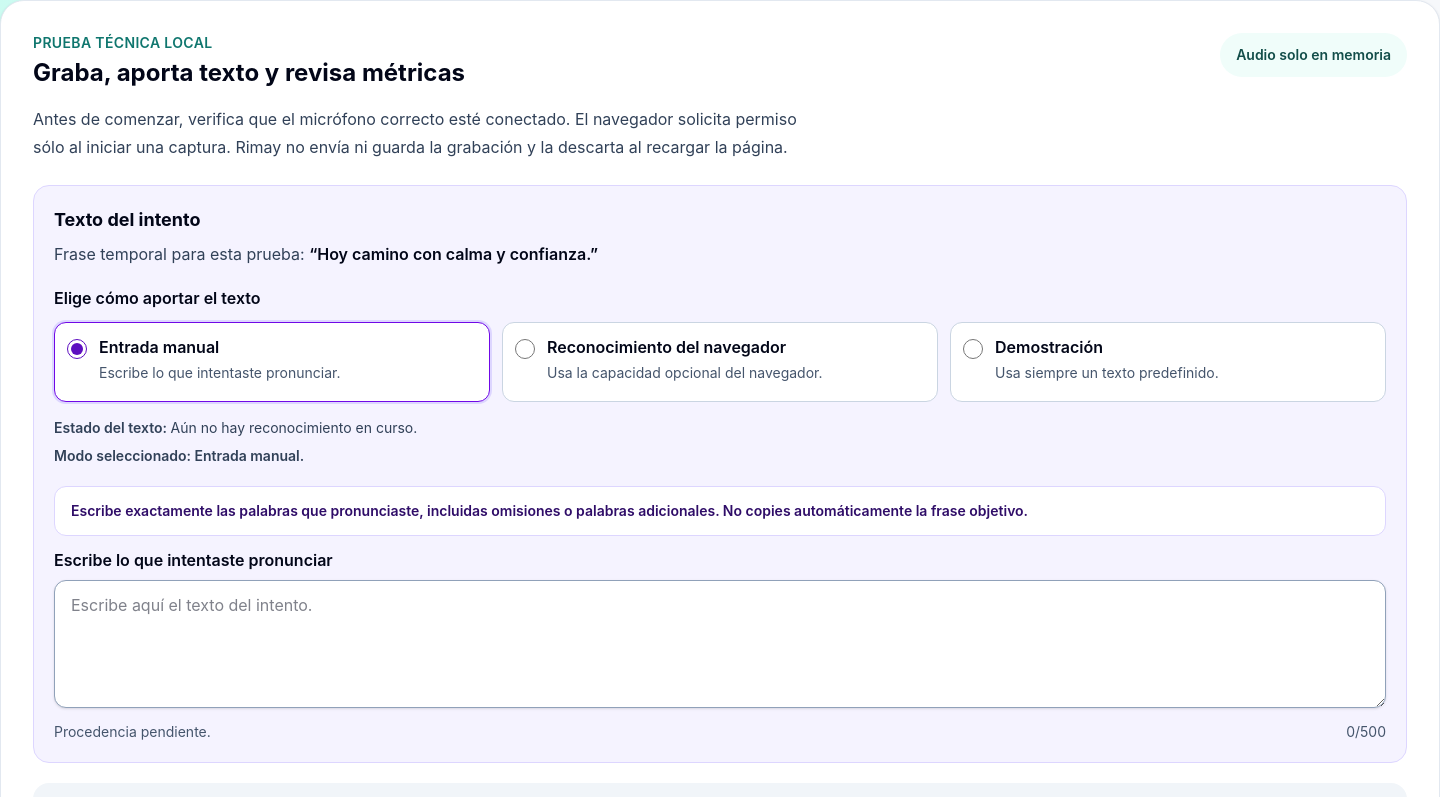
Test: AudioRecorderCard speech text flow › permite entrada manual sin captura y mantiene WPM no disponible
Type "Hoy camino con calma y confianza." into the text box labelled "Escribe lo que intentaste pronunciar" at (720, 644), box [54,580,1386,708]
(page scrolled)
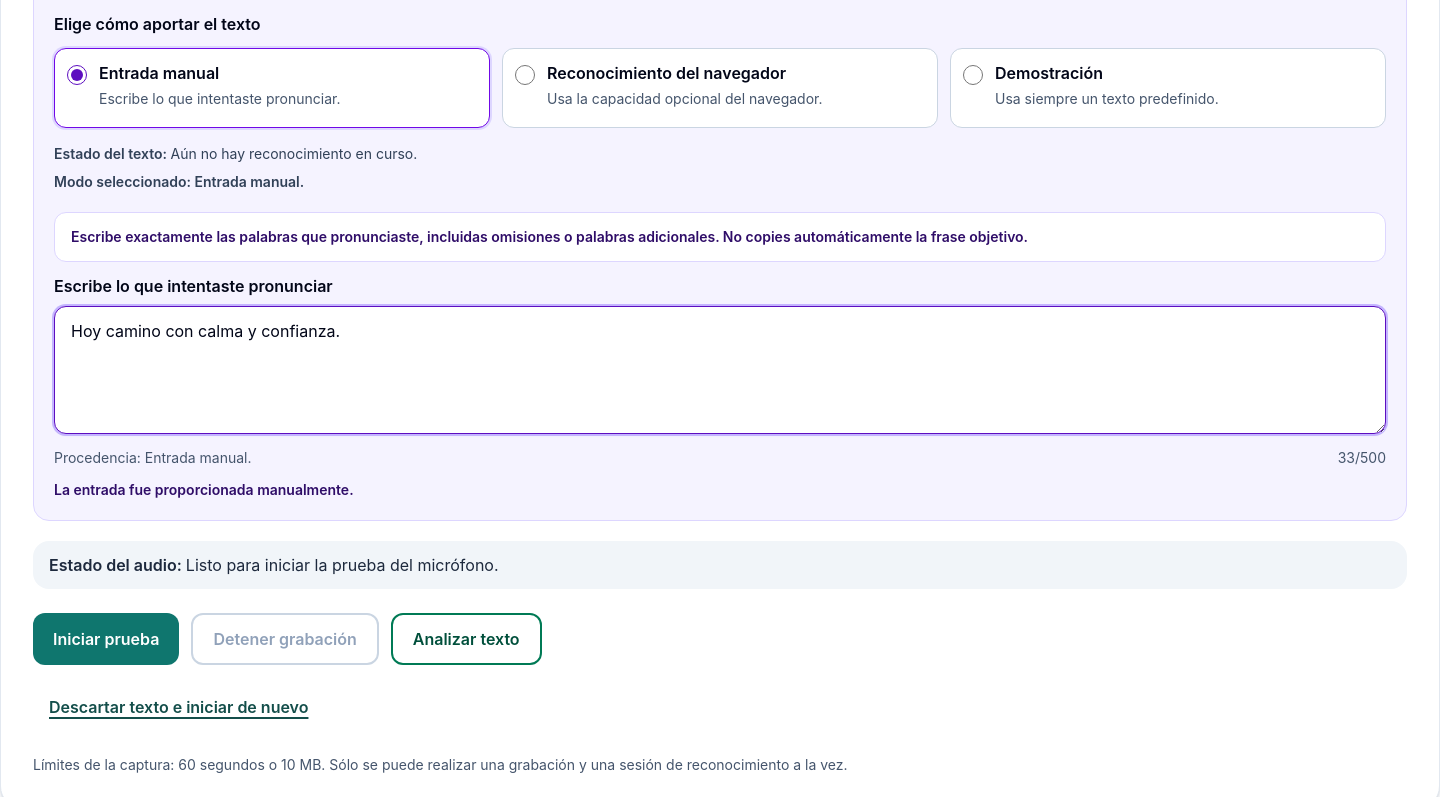
Click the button "Analizar texto" at (466, 639), box [391,613,542,665]
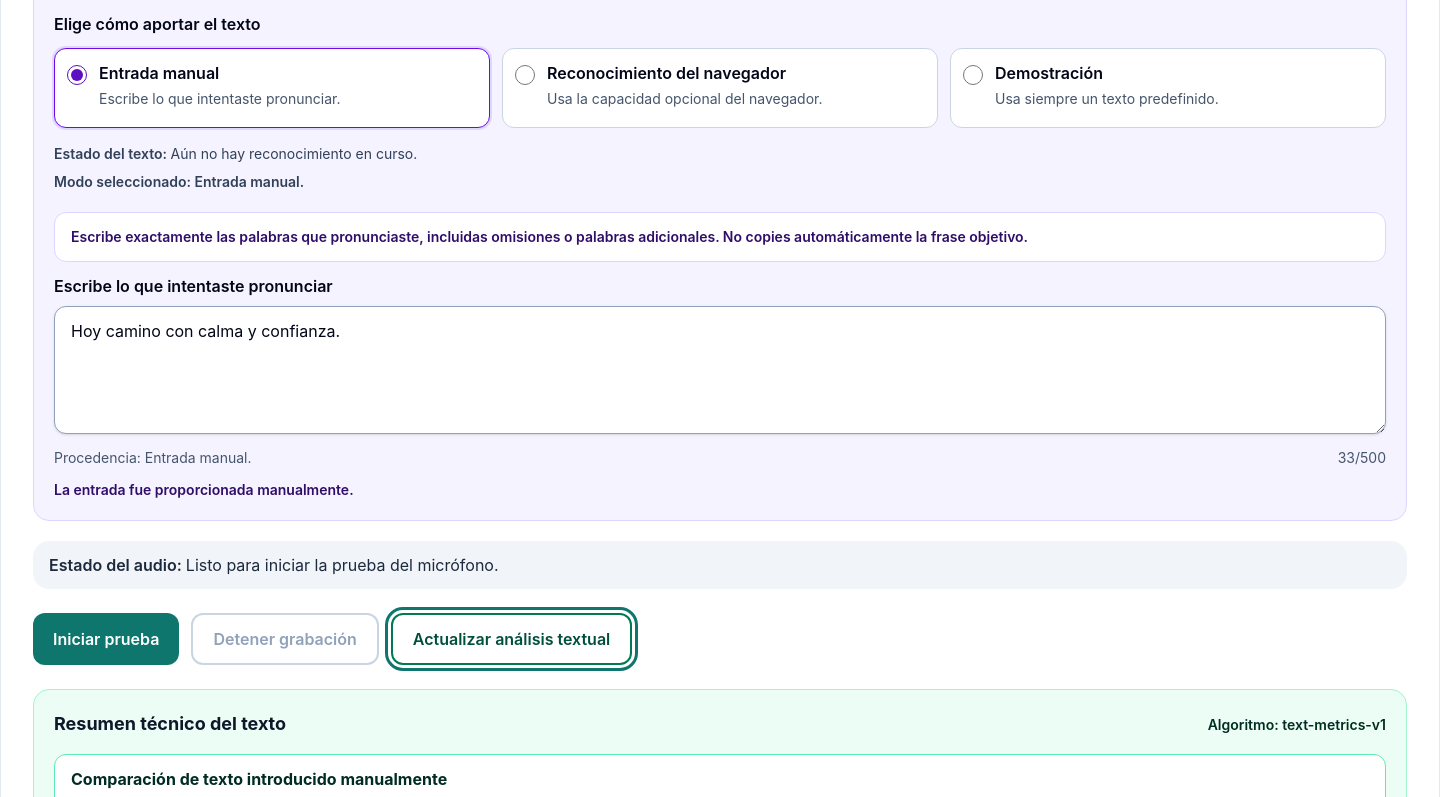
Now the text "Procedencia: Entrada manual." is shown, box [54,448,252,468]
Now the text "Algoritmo: text-metrics-v1" is shown, box [1208,715,1386,735]
Now the text "Comparación de texto introducido manualmente" is shown, box [71,769,447,789]
